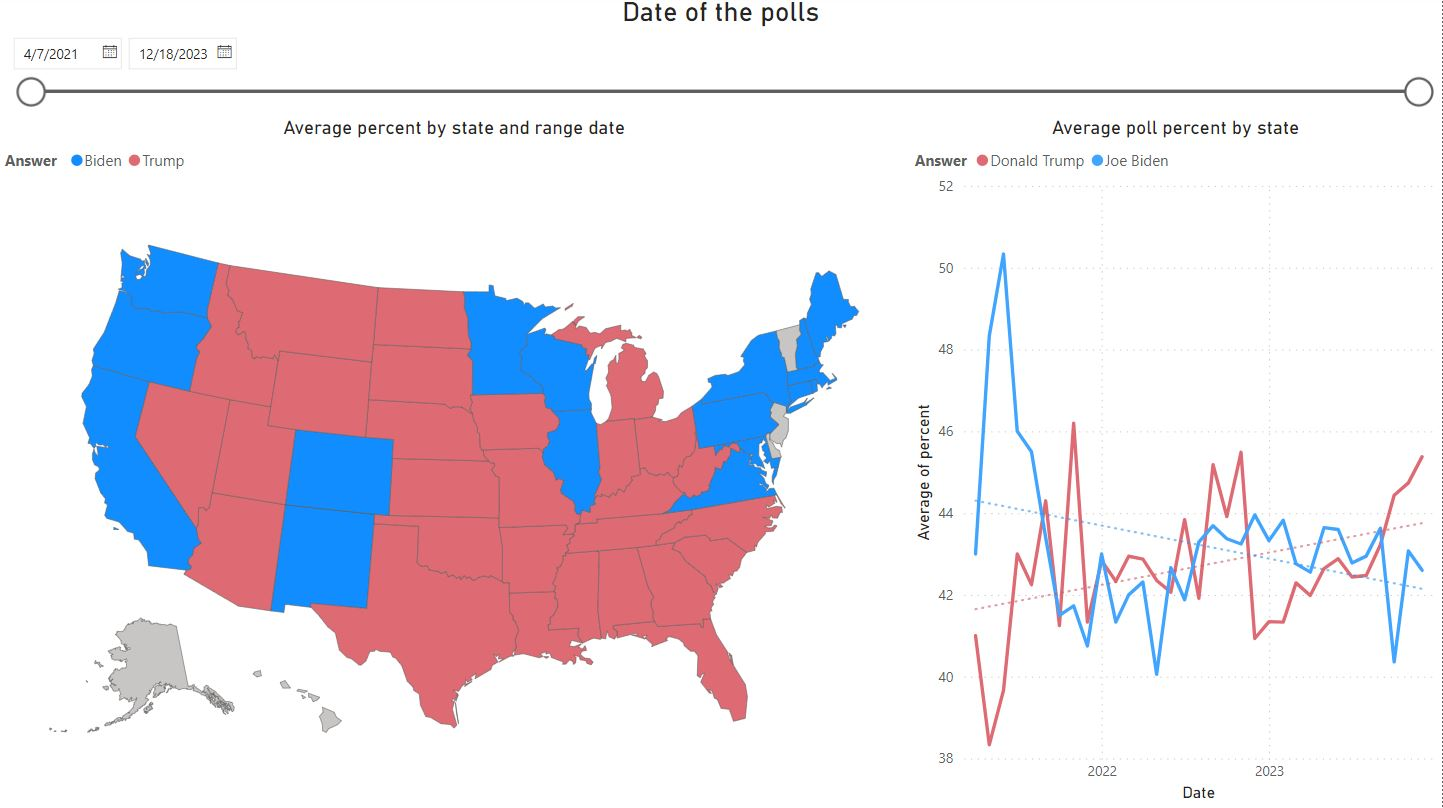

Layout of this report page (visuals, bound fields, positions):
{"tool":"powerbi","page":{"name":"Map state by state average polls","canvas":[1280,720],"ordinal":1},"visuals":[{"type":"shapeMap","title":"Average percent by state and range date","fields":{"Category":["president_polls.state"],"Value":["president_polls.percent"],"Series":["president_polls.answer"]},"box":[0,106.2,807.1,613.5],"z":0},{"type":"slicer","title":"Date of the polls","fields":{"Values":["president_polls.end_date"]},"box":[0,0,1280,106.3],"z":1000},{"type":"lineChart","title":"Average poll percent by state","fields":{"Y":["president_polls.percent"],"Series":["president_polls.candidate_name"],"Category":["president_polls.end date (bins)"]},"box":[807,106,473,613],"z":2000}]}

Visuals, with their boxes in screenshot pixels (x1, y1, x2, y2), scaled from the page's 1280x720 canvas onto the 1443x808 screenshot:
"Average percent by state and range date" shapeMap: 0, 119, 910, 807
"Date of the polls" slicer: 0, 0, 1442, 119
"Average poll percent by state" lineChart: 910, 119, 1442, 807
